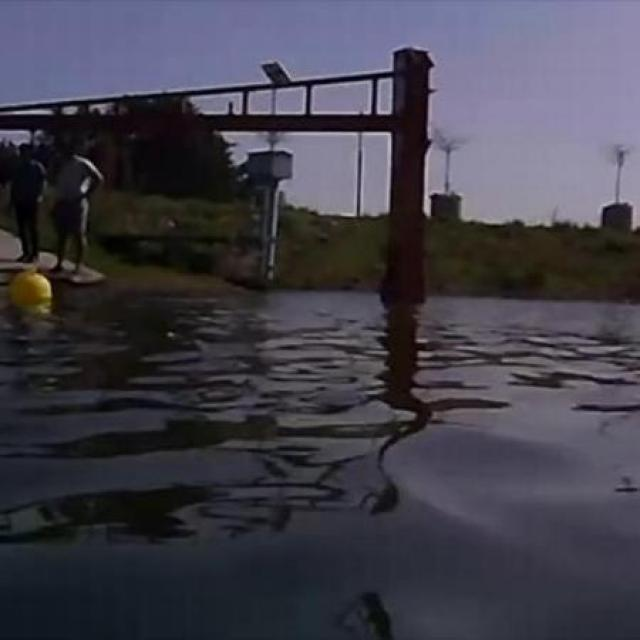buoy: (10, 269, 50, 307)
